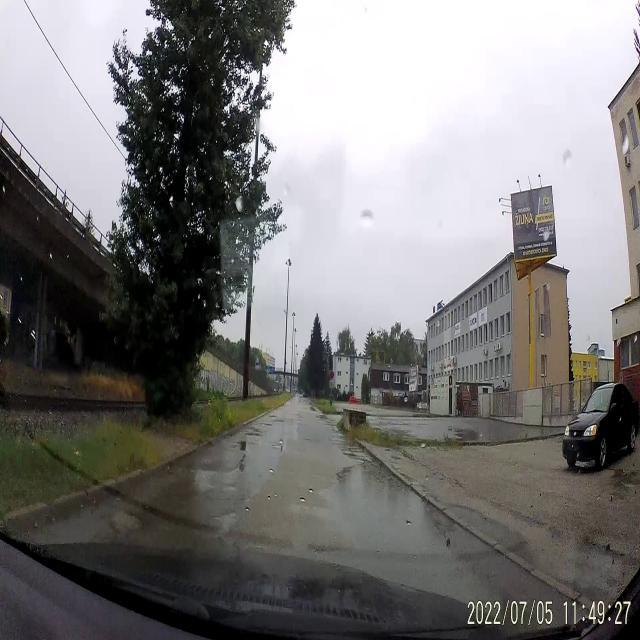Pothole: (286, 431, 362, 487), (248, 428, 262, 442), (264, 418, 274, 432), (276, 413, 284, 427)
